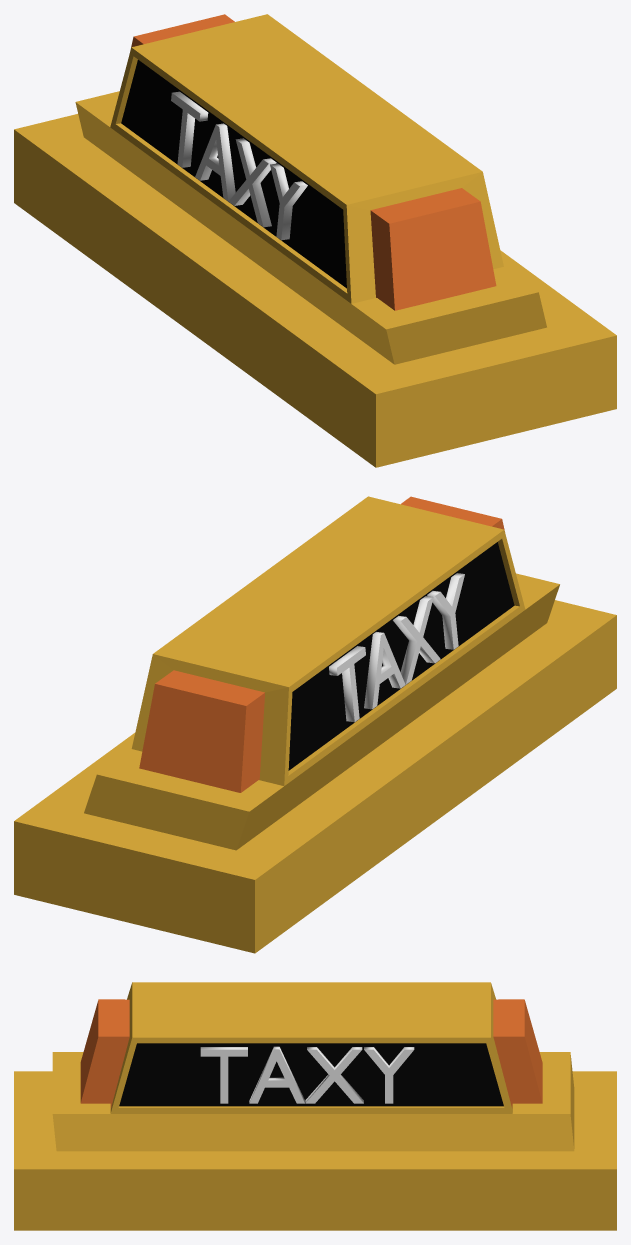
File: TAXYYY.fbx
3 renders of one model, top to bottom at view 1: azimuth 30°, elevation 25°; view 2: azimuth 150°, elevation 25°; view 3: azimuth 270°, elevation 25°, orthographic. The views are drawn at different scales.
Visible parts, largest first — view 1: Cube; view 2: Cube; view 3: Cube.
Boxes of the visible parts, bbox=[...] form: Cube: bbox=[14, 14, 616, 467]; Cube: bbox=[14, 496, 616, 953]; Cube: bbox=[14, 982, 616, 1230].
Bounding box in the file's own units: 20 × 15.92 × 52.
